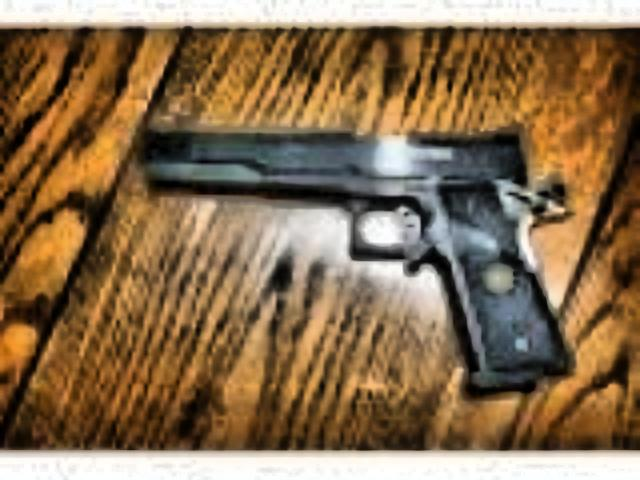pistol: (128, 112, 572, 400)
